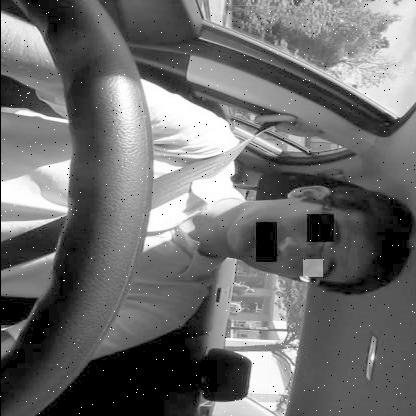seatbelt: (0, 105, 414, 308)
